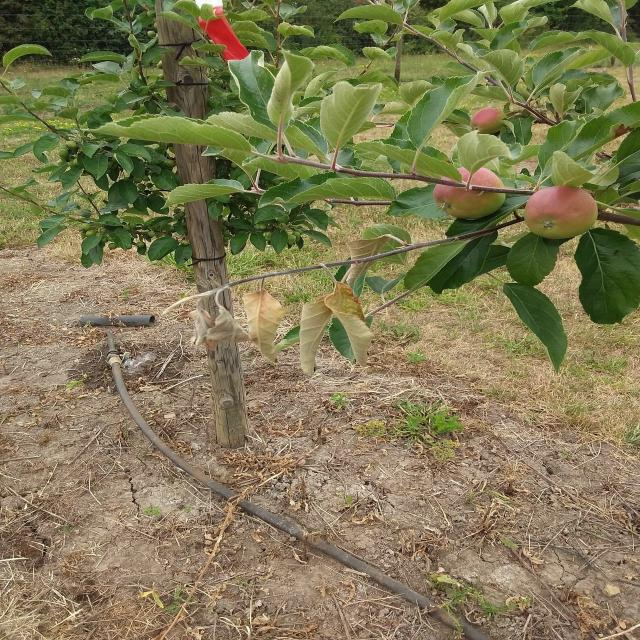-FireBlight-: (176, 288, 396, 363)
